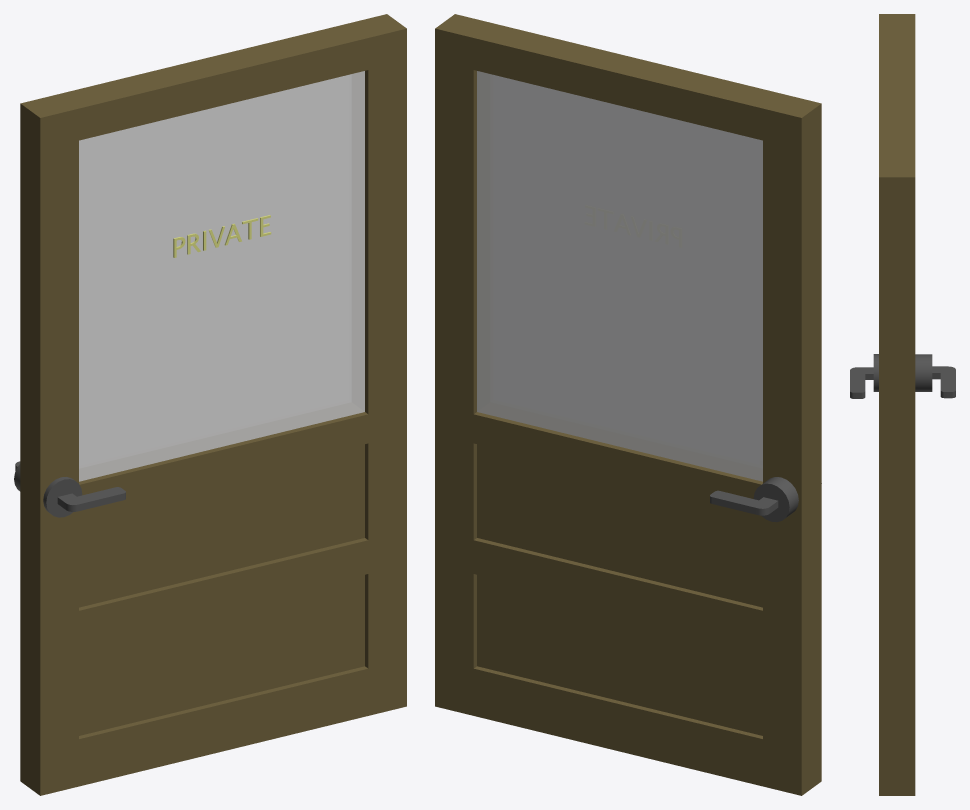
File: PrivateDoor2Handles.fbx
The picture shows the model from 3 angles, left to right: view 1: azimuth 30°, elevation 25°; view 2: azimuth 150°, elevation 25°; view 3: azimuth 270°, elevation 25°; orthographic projection. The views are drawn at different scales.
Parts seen in each view (by area): view 1: polySurface77; view 2: polySurface77; view 3: polySurface77.
Boxes of the visible parts, x1,y1,x2,y2 form: polySurface77: (14, 14, 406, 795); polySurface77: (435, 14, 821, 795); polySurface77: (850, 14, 955, 795).
Bounding box in the file's own units: 4.76 × 8.41 × 1.31.
